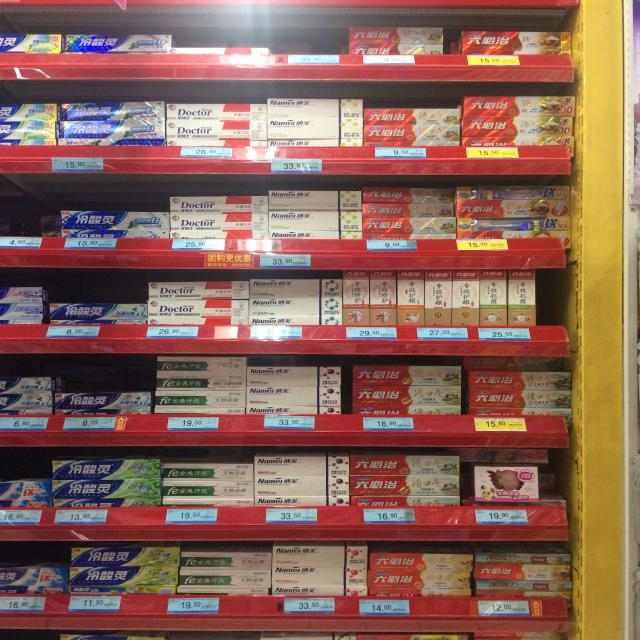empty: (264, 8, 351, 56), (532, 261, 572, 325), (1, 180, 46, 234)
